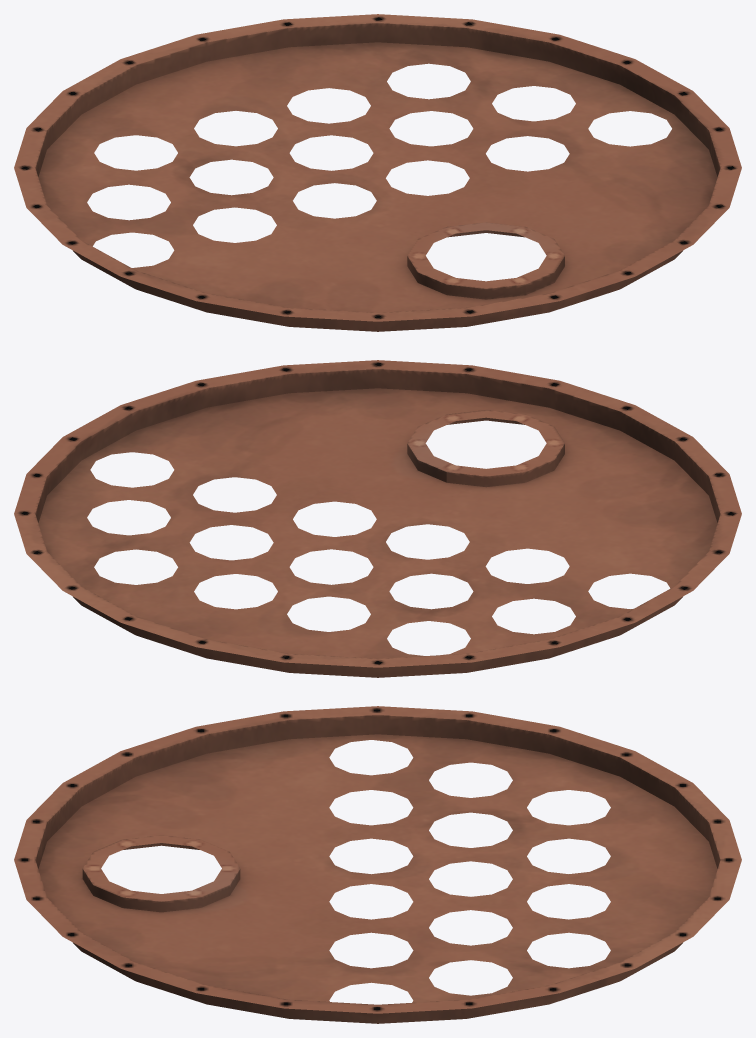
The model's file is 1.25m_Boiler_Endcap.obj.
3 views of the same model, one above another, from view 1: azimuth 30°, elevation 25°; view 2: azimuth 150°, elevation 25°; view 3: azimuth 270°, elevation 25° (orthographic).
Parts seen in each view (by area): view 1: 1.25m_Boiler_Endcap.004; view 2: 1.25m_Boiler_Endcap.004; view 3: 1.25m_Boiler_Endcap.004.
Part boxes in pixels (<box>): 1.25m_Boiler_Endcap.004: <box>14,14,741,331</box>; 1.25m_Boiler_Endcap.004: <box>14,360,741,677</box>; 1.25m_Boiler_Endcap.004: <box>14,706,741,1023</box>.
Bounding box in the file's own units: 1.25 × 0.0363 × 1.25.
1 material, 1 textured.
